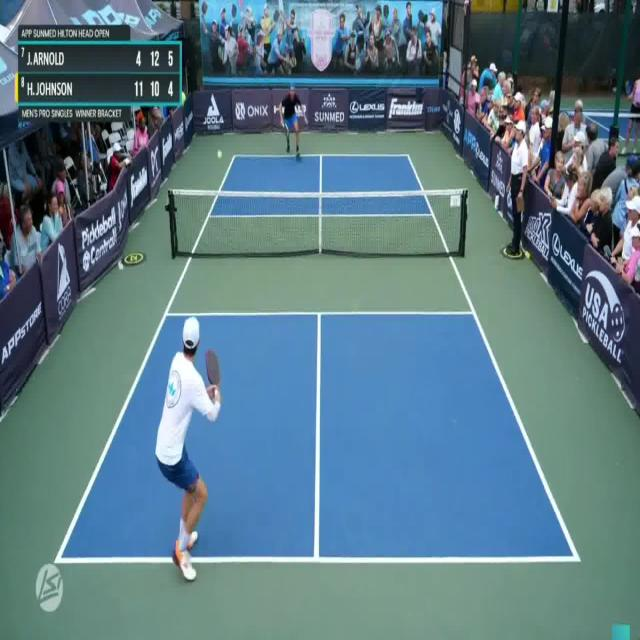Court: (55, 156, 578, 558)
ball: (215, 146, 225, 168)
